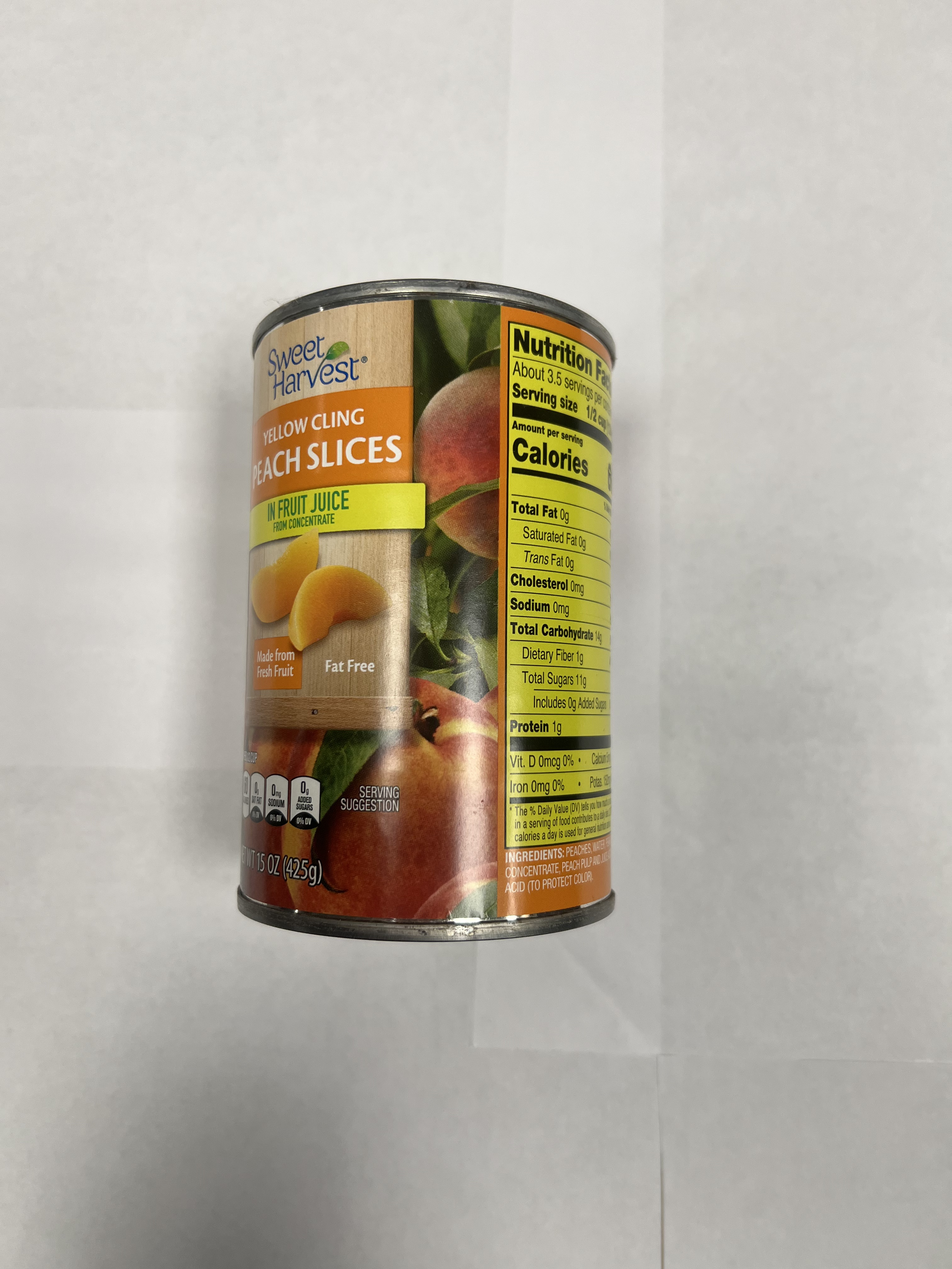packaged: (230, 275, 626, 949)
